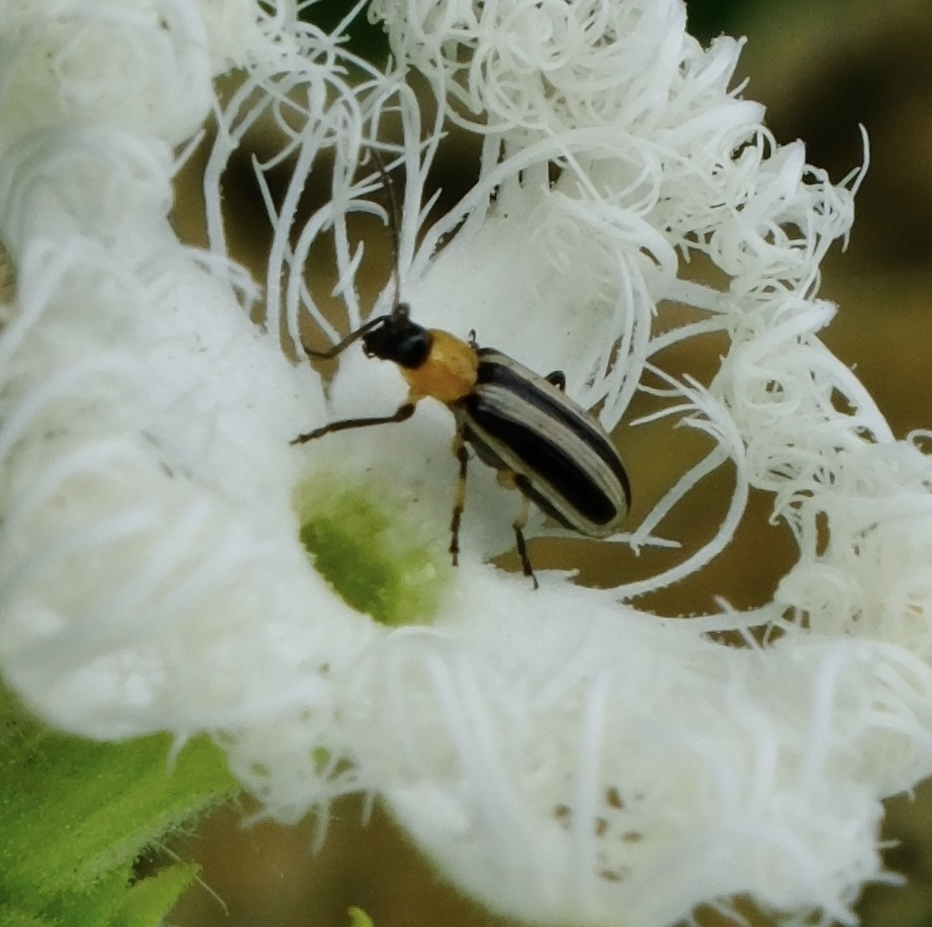potato_beetle: (184, 108, 786, 674)
